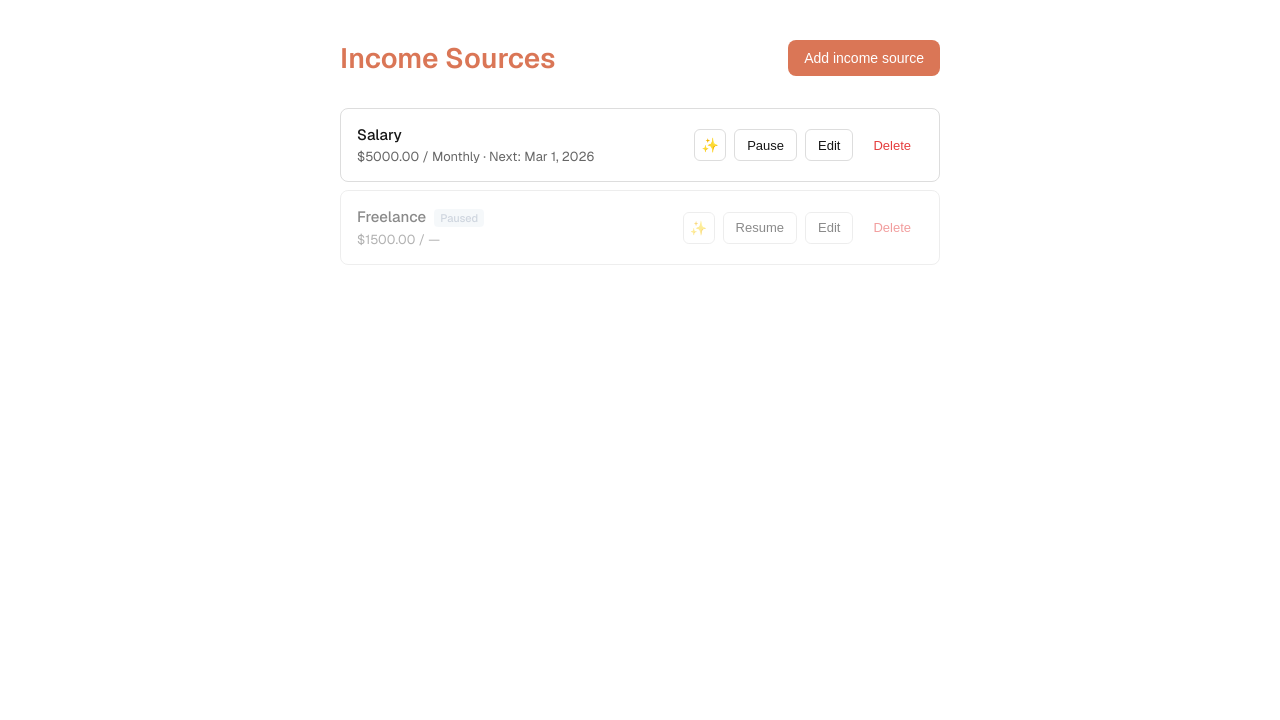
IncomePage › does not delete when confirmation is cancelled
Check: the text "Salary" is shown, box [357,125,402,144]
Click the button with aria-label "Delete Salary" at (892, 145), box [861,129,923,161]
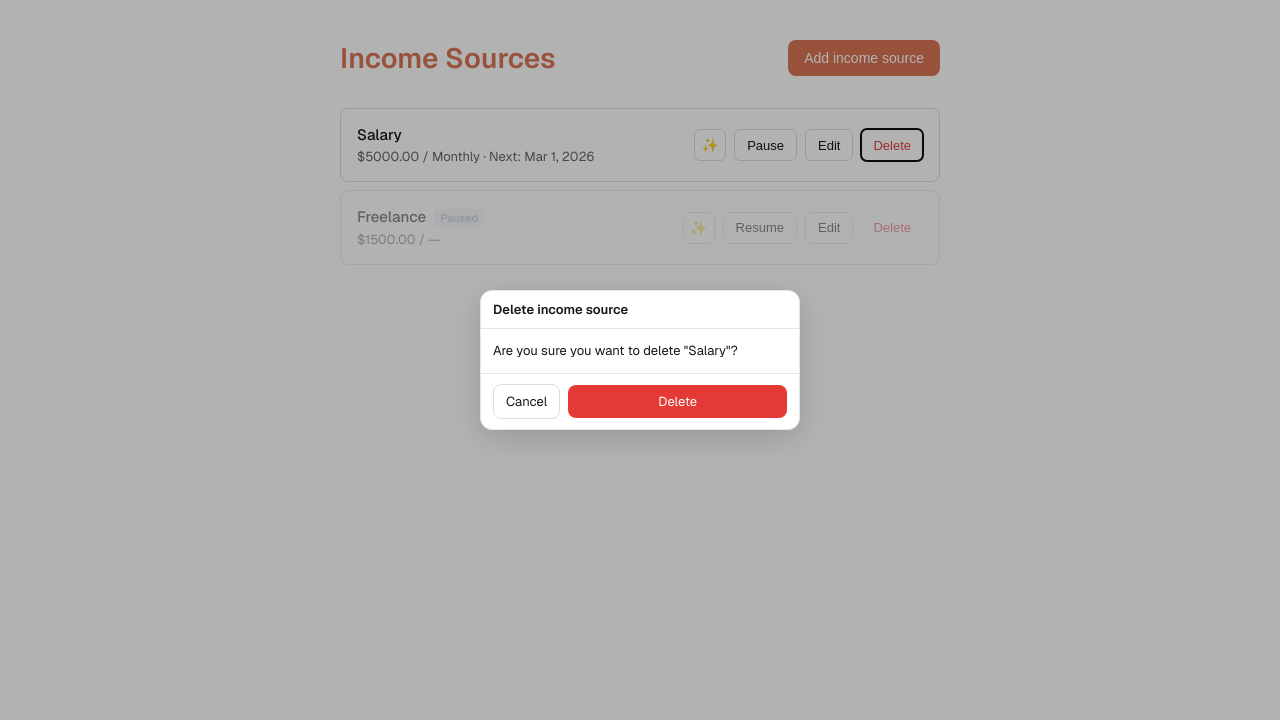
Check: the dialog with test id "confirm-dialog" is shown, box [480,290,800,430]
Click the button with test id "confirm-dialog-cancel" at (527, 401), box [493,384,560,419]
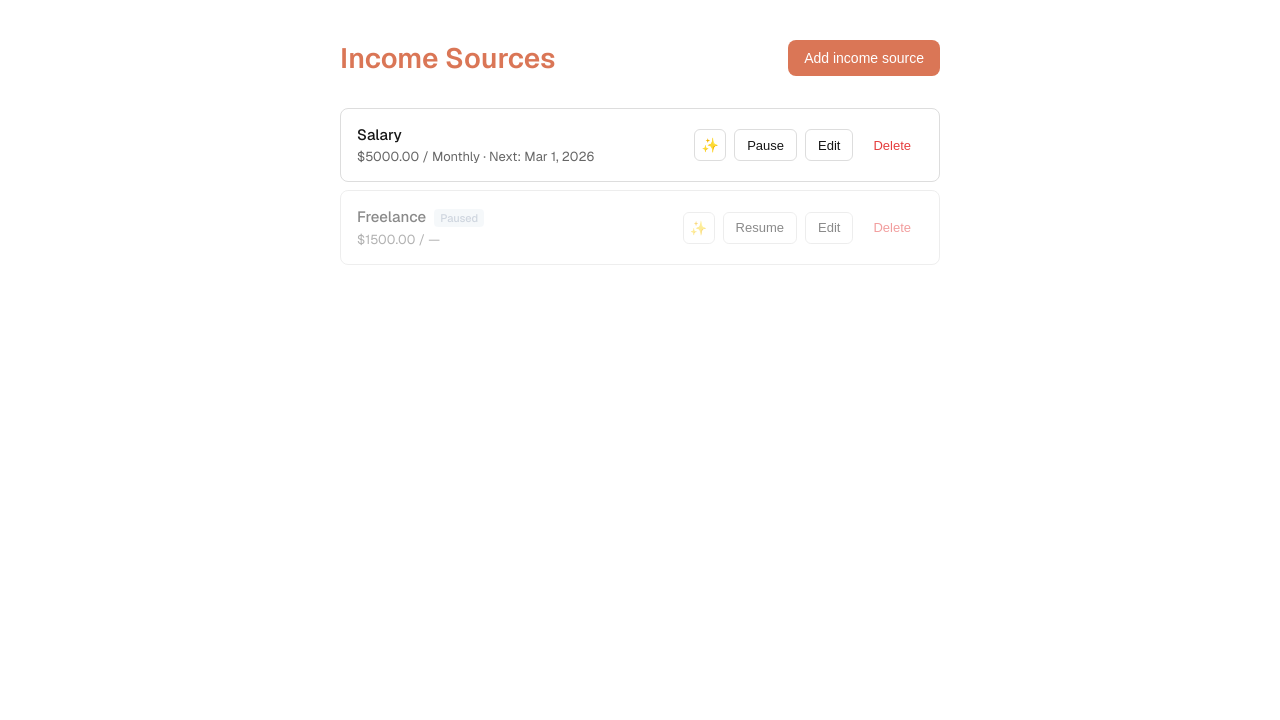
Check: the text "Salary" is shown, box [357,125,402,144]
Check: the dialog with test id "confirm-dialog" is gone
